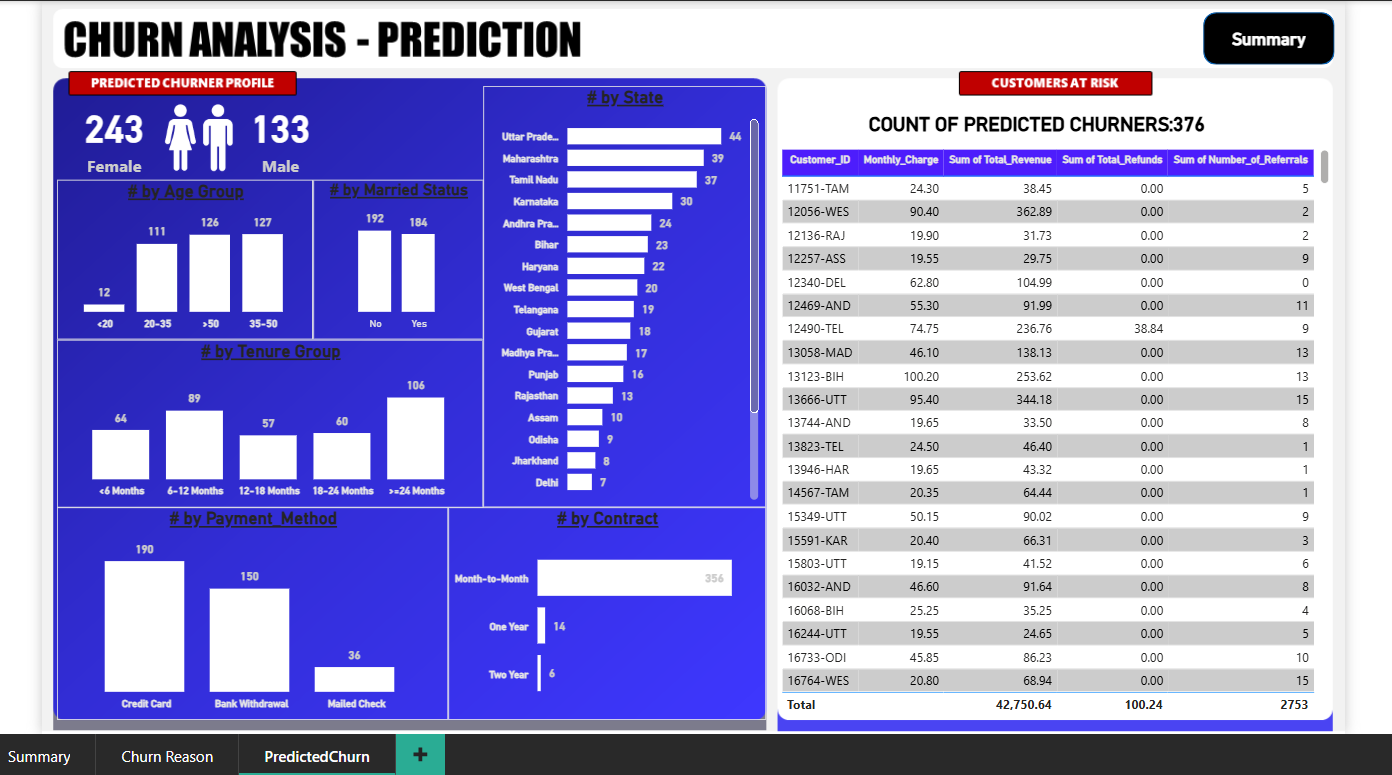

The page's visual inventory and layout, read from the dashboard file:
{"tool":"powerbi","page":{"name":"PredictedChurn","canvas":[1280,720],"ordinal":2},"visuals":[{"type":"image","box":[88.3,92,131.3,83.4],"z":0},{"type":"tableEx","fields":{"Values":["PredictionData.Customer_ID","PredictionData.Monthly_Charge","Sum(PredictionData.Total_Revenue)","Sum(PredictionData.Total_Refunds)","Sum(PredictionData.Number_of_Referrals)"]},"box":[720.2,141.1,548.5,564.4],"z":1000},{"type":"card","fields":{"Values":["TBL_Measures.TitlePredictedChurner"]},"box":[790.2,100.6,373,40.5],"z":2000},{"type":"card","fields":{"Values":["TBL_Measures.CountPredictedChurner"]},"box":[0,83.4,142.3,100.6],"z":3000},{"type":"card","fields":{"Values":["TBL_Measures.CountPredictedChurner"]},"box":[163.2,83.4,142.3,100.6],"z":4000},{"type":"clusteredColumnChart","fields":{"Category":["MappingAgeGroup.Age Group"],"Y":["CountNonNull(PredictionData.Customer_ID)"]},"box":[14.7,175.5,251.5,157.1],"z":5000},{"type":"clusteredColumnChart","fields":{"Y":["CountNonNull(PredictionData.Customer_ID)"],"Category":["PredictionData.Married"]},"box":[266.3,175.5,166.9,157.1],"z":6000},{"type":"clusteredColumnChart","fields":{"Y":["CountNonNull(PredictionData.Customer_ID)"],"Category":["MappingTenureGroup.Tenure Group"]},"box":[14.7,332.5,418.4,164.4],"z":7000},{"type":"clusteredColumnChart","fields":{"Y":["CountNonNull(PredictionData.Customer_ID)"],"Category":["PredictionData.Payment_Method"]},"box":[14.7,496.9,384.1,208.6],"z":8000},{"type":"clusteredBarChart","fields":{"Category":["PredictionData.Contract"],"Y":["CountNonNull(PredictionData.Customer_ID)"]},"box":[398.8,496.9,311.7,208.6],"z":9000},{"type":"clusteredBarChart","fields":{"Category":["PredictionData.State"],"Y":["CountNonNull(PredictionData.Customer_ID)"]},"box":[433.1,83.4,277.3,413.5],"z":10000},{"type":"shape","box":[1139.9,11,128.8,51.5],"z":11000}]}

Visuals, with their boxes on the page's 1280x720 design canvas (x1, y1, x2, y2). These are canvas units, not pixel positions in the 1392x775 screenshot, which may show the page scaled, cropped or inside an application window:
image: x1=88, y1=92, x2=220, y2=175
tableEx - PredictionData.Customer_ID x PredictionData.Monthly_Charge: x1=720, y1=141, x2=1269, y2=706
card - TBL_Measures.TitlePredictedChurner: x1=790, y1=101, x2=1163, y2=141
card - TBL_Measures.CountPredictedChurner: x1=0, y1=83, x2=142, y2=184
card - TBL_Measures.CountPredictedChurner: x1=163, y1=83, x2=306, y2=184
clusteredColumnChart - MappingAgeGroup.Age Group x CountNonNull(PredictionData.Customer_ID): x1=15, y1=176, x2=266, y2=333
clusteredColumnChart - CountNonNull(PredictionData.Customer_ID) x PredictionData.Married: x1=266, y1=176, x2=433, y2=333
clusteredColumnChart - CountNonNull(PredictionData.Customer_ID) x MappingTenureGroup.Tenure Group: x1=15, y1=332, x2=433, y2=497
clusteredColumnChart - CountNonNull(PredictionData.Customer_ID) x PredictionData.Payment_Method: x1=15, y1=497, x2=399, y2=706
clusteredBarChart - PredictionData.Contract x CountNonNull(PredictionData.Customer_ID): x1=399, y1=497, x2=710, y2=706
clusteredBarChart - PredictionData.State x CountNonNull(PredictionData.Customer_ID): x1=433, y1=83, x2=710, y2=497
shape: x1=1140, y1=11, x2=1269, y2=62
